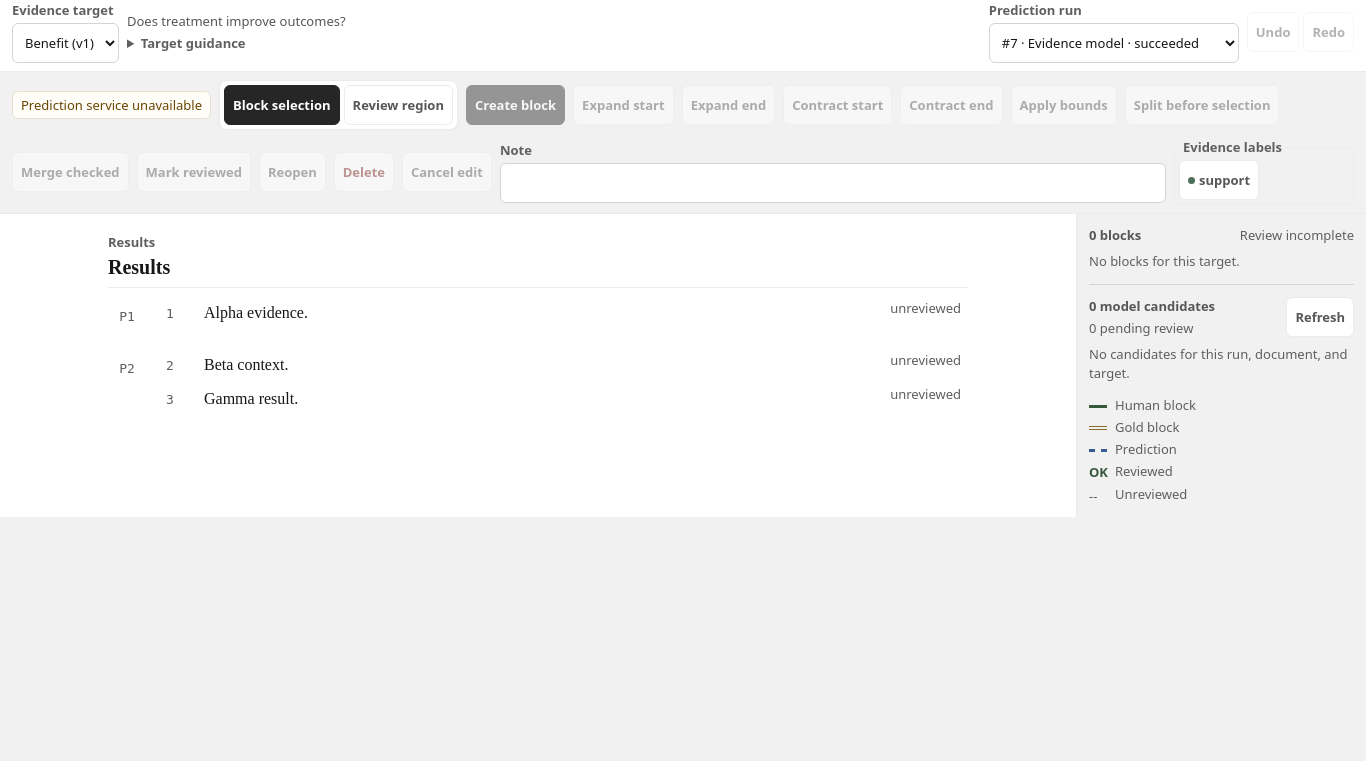
it: EvidenceBlockCanvas › reports a later prediction page failure and retries the complete list
Expected: the text "Prediction service unavailable" is shown, x1=12 y1=91 x2=211 y2=119
Click the button "Refresh" at (1320, 316), box x1=1286 y1=296 x2=1354 y2=336
(page scrolled)
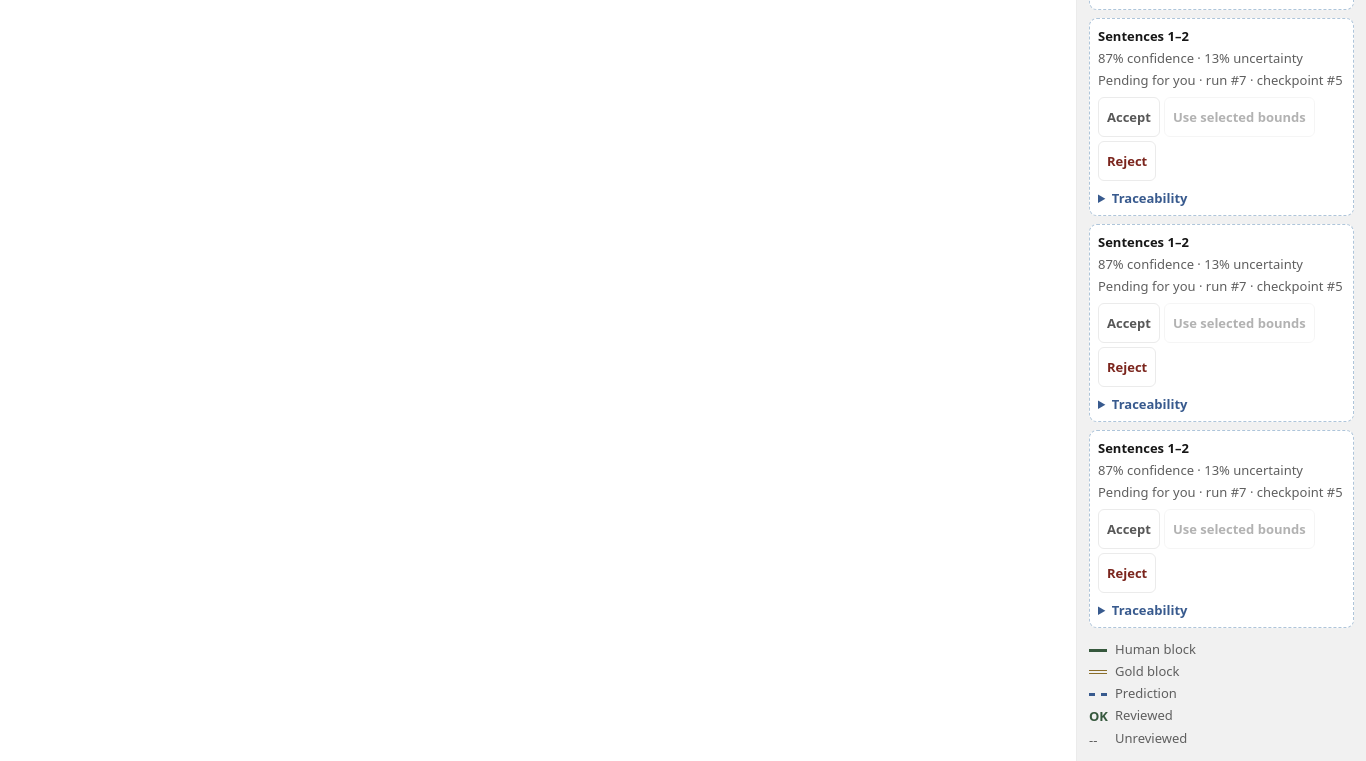
Expected: the text "Prediction service unavailable" is gone
Expected: the button with aria-label "Accept prediction 1100" is shown, x1=1098 y1=508 x2=1160 y2=548
